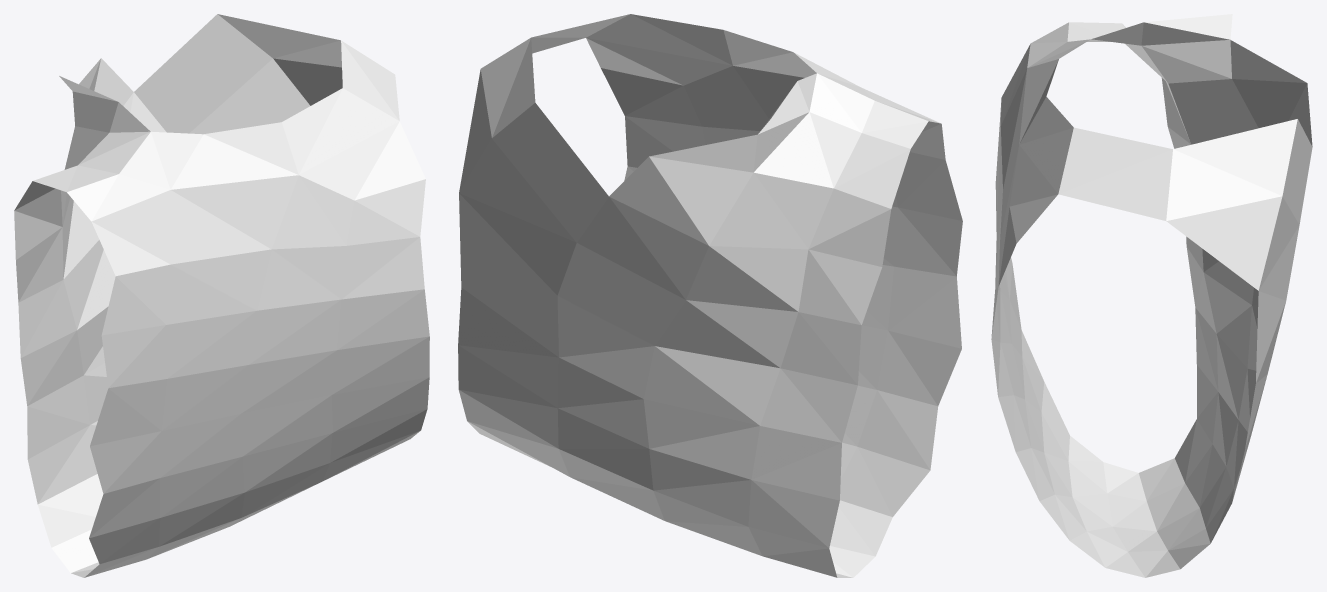
Rendered from l_hand_palm.dae.
3 views of the same model, side by side, from view 1: azimuth 30°, elevation 25°; view 2: azimuth 150°, elevation 25°; view 3: azimuth 270°, elevation 25° (orthographic). The views are drawn at different scales.
Visible parts, largest first — view 1: node; view 2: node; view 3: node.
Part boxes in pixels (x1,y1,x2,y2): node: (14,14,429,577); node: (458,14,962,577); node: (991,14,1312,577).
Bounding box in the file's own units: 0.0852 × 0.097 × 0.0593.
Materials: 1 (1 with a texture image).
